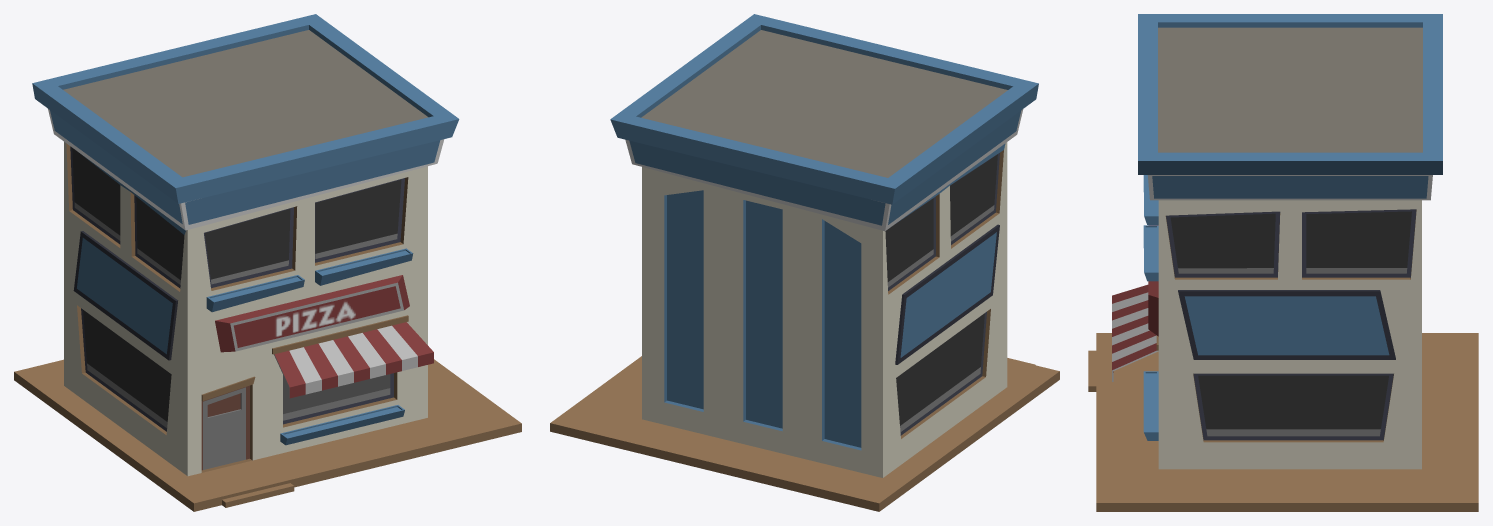
File: pizza02_color03.fbx
3 renders of one model, left to right at view 1: azimuth 30°, elevation 25°; view 2: azimuth 150°, elevation 25°; view 3: azimuth 270°, elevation 25°, orthographic. The views are drawn at different scales.
Visible parts, largest first — view 1: pizza02_color03; view 2: pizza02_color03; view 3: pizza02_color03.
Boxes of the visible parts, <box> form: pizza02_color03: <box>14,14,521,511</box>; pizza02_color03: <box>550,14,1059,511</box>; pizza02_color03: <box>1088,14,1478,511</box>.
Size of the model in its own units: 1295 by 1167 by 1258.
